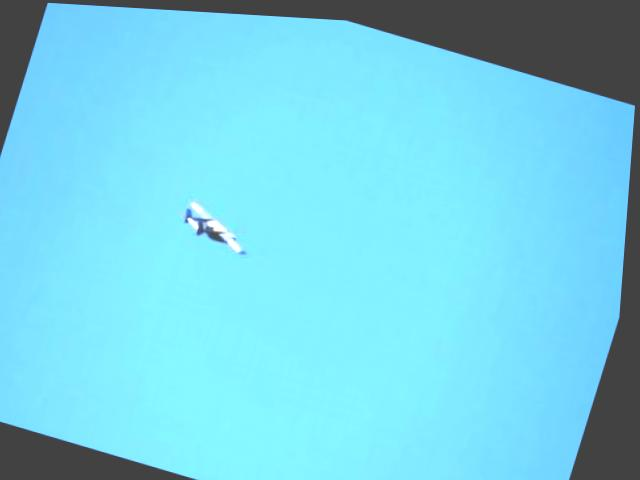uav: (175, 192, 264, 259)
